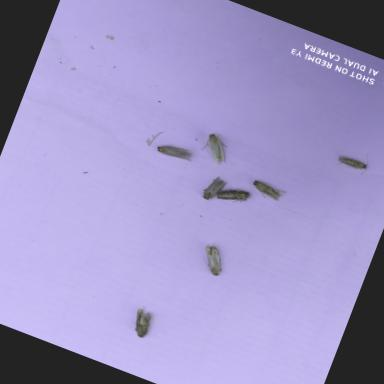pbw: (193, 125, 245, 172), (190, 238, 238, 284), (150, 134, 204, 172), (328, 144, 380, 182), (192, 168, 235, 211), (243, 174, 294, 210), (122, 300, 162, 344), (212, 178, 256, 213)
